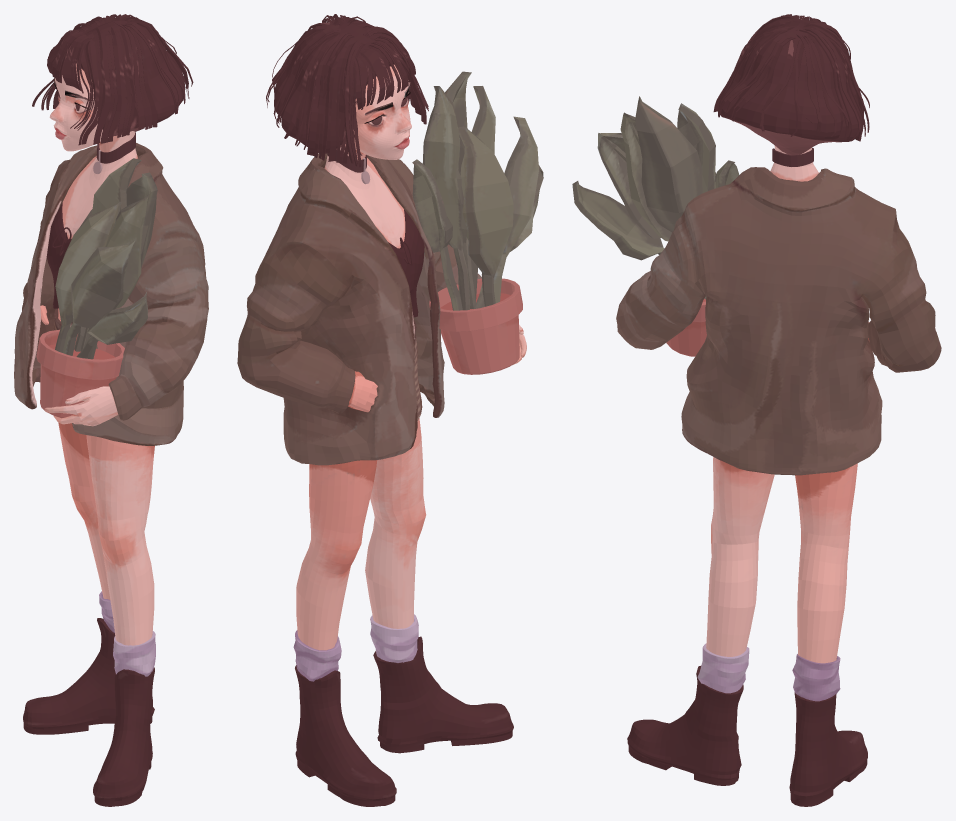
Rendered from matilda2.gltf.
3 renders of one model, left to right at view 1: azimuth 30°, elevation 25°; view 2: azimuth 150°, elevation 25°; view 3: azimuth 270°, elevation 25°, orthographic. The views are drawn at different scales.
Visible parts, largest first — view 1: polySurface80, polySurface74, polySurface87, polySurface86, polySurface67, polySurface68, hairStrands_v2:polySurface28, polySurface66, polySurface85, polySurface72, polySurface62, hairStrands_v2:polySurface8 (+16 smaller); view 2: polySurface80, polySurface74, polySurface87, polySurface86, polySurface66, polySurface67, polySurface69, hairStrands_v2:polySurface28, polySurface85, polySurface68, polySurface63, polySurface78 (+8 smaller); view 3: polySurface80, polySurface74, hairStrands_v2:polySurface28, polySurface87, polySurface86, polySurface102, polySurface62, polySurface68, polySurface72, polySurface77, polySurface78, polySurface69 (+1 smaller).
Part boxes in pixels (bbox=[...]): polySurface80: bbox=[14, 143, 208, 445]; polySurface74: bbox=[58, 131, 154, 645]; polySurface87: bbox=[93, 667, 154, 806]; polySurface86: bbox=[23, 618, 154, 734]; polySurface67: bbox=[36, 329, 124, 418]; polySurface68: bbox=[62, 241, 134, 355]; hairStrands_v2:polySurface28: bbox=[67, 17, 185, 135]; polySurface66: bbox=[55, 202, 120, 352]; polySurface85: bbox=[49, 63, 108, 151]; polySurface72: bbox=[86, 194, 149, 359]; polySurface62: bbox=[76, 292, 147, 358]; hairStrands_v2:polySurface8: bbox=[44, 386, 118, 426]; polySurface80: bbox=[237, 153, 481, 465]; polySurface74: bbox=[296, 144, 426, 650]; polySurface87: bbox=[373, 636, 513, 753]; polySurface86: bbox=[295, 665, 396, 806]; polySurface66: bbox=[458, 126, 513, 306]; polySurface67: bbox=[429, 278, 522, 374]; polySurface69: bbox=[422, 86, 470, 310]; hairStrands_v2:polySurface28: bbox=[274, 17, 409, 153]; polySurface85: bbox=[353, 64, 411, 159]; polySurface68: bbox=[493, 116, 538, 303]; polySurface63: bbox=[412, 159, 462, 310]; polySurface78: bbox=[370, 614, 418, 662]; polySurface80: bbox=[616, 167, 941, 475]; polySurface74: bbox=[706, 145, 857, 663]; hairStrands_v2:polySurface28: bbox=[718, 19, 863, 155]; polySurface87: bbox=[627, 666, 743, 785]; polySurface86: bbox=[789, 692, 867, 806]; polySurface102: bbox=[635, 96, 702, 232]; polySurface62: bbox=[572, 181, 664, 260]; polySurface68: bbox=[597, 133, 660, 238]; polySurface72: bbox=[620, 112, 671, 241]; polySurface77: bbox=[792, 654, 840, 701]; polySurface78: bbox=[697, 643, 749, 693]; polySurface69: bbox=[677, 103, 715, 299].
Size of the model in its own units: 0.4669 by 1.72 by 0.7549.
1 material, 1 textured.
